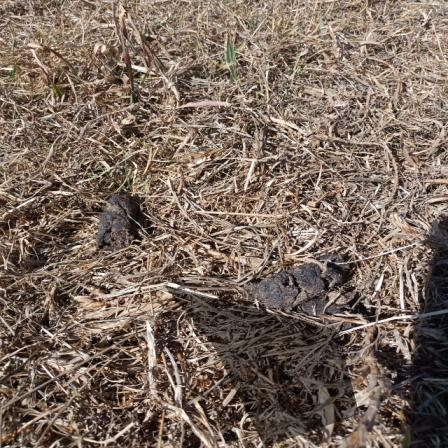dog-poop: (250, 257, 371, 322), (89, 188, 154, 251)
